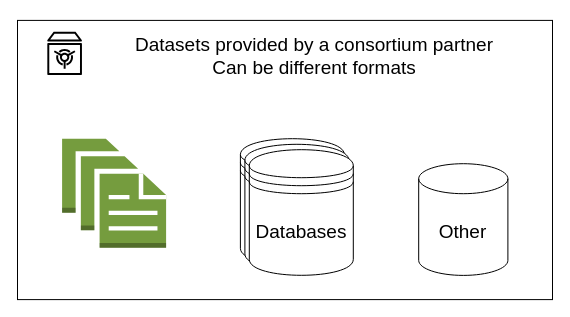
Some shapes in this 570 by 317 pixel diagram are drawn without their labels. The centre of each missing label's shape, as x and y in pixels:
CSV files: [113,193]
Data pod: [64,53]
